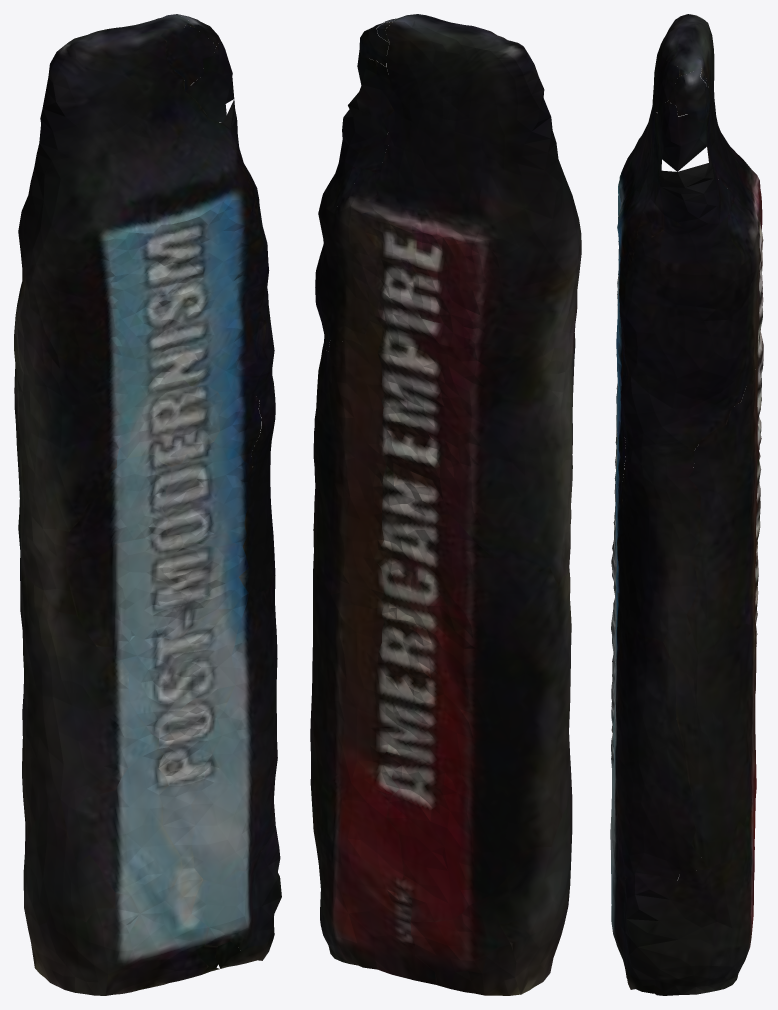
The model's file is Breeze good.glb.
The picture shows the model from 3 angles, left to right: view 1: azimuth 30°, elevation 25°; view 2: azimuth 150°, elevation 25°; view 3: azimuth 270°, elevation 25°; orthographic projection. The views are drawn at different scales.
Visible parts, largest first — view 1: Mesh_0; view 2: Mesh_0; view 3: Mesh_0.
Boxes of the visible parts, left/top/right/bottom form: Mesh_0: left=14, top=14, right=281, bottom=995; Mesh_0: left=310, top=14, right=581, bottom=995; Mesh_0: left=610, top=14, right=763, bottom=995.
Bounding box in the file's own units: 0.0765 × 0.2768 × 0.0426.
1 material, 1 textured.
